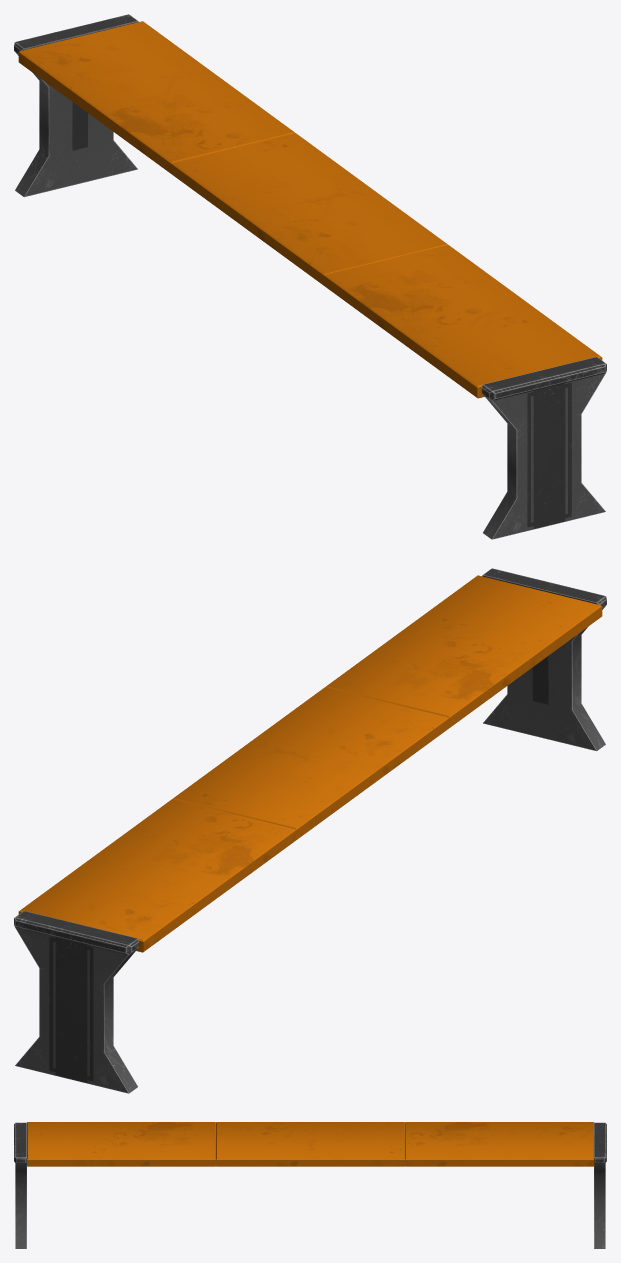
The model's file is Scifi_bench.fbx.
The picture shows the model from 3 angles, top to bottom: view 1: azimuth 30°, elevation 25°; view 2: azimuth 150°, elevation 25°; view 3: azimuth 270°, elevation 25°; orthographic projection. The views are drawn at different scales.
Visible parts, largest first — view 1: Bench; view 2: Bench; view 3: Bench.
Boxes of the visible parts, bbox=[...] form: Bench: bbox=[14, 14, 606, 539]; Bench: bbox=[14, 568, 606, 1093]; Bench: bbox=[14, 1122, 606, 1248].
Bounding box in the file's own units: 39.86 × 45.24 × 265.
1 material, 1 textured.
